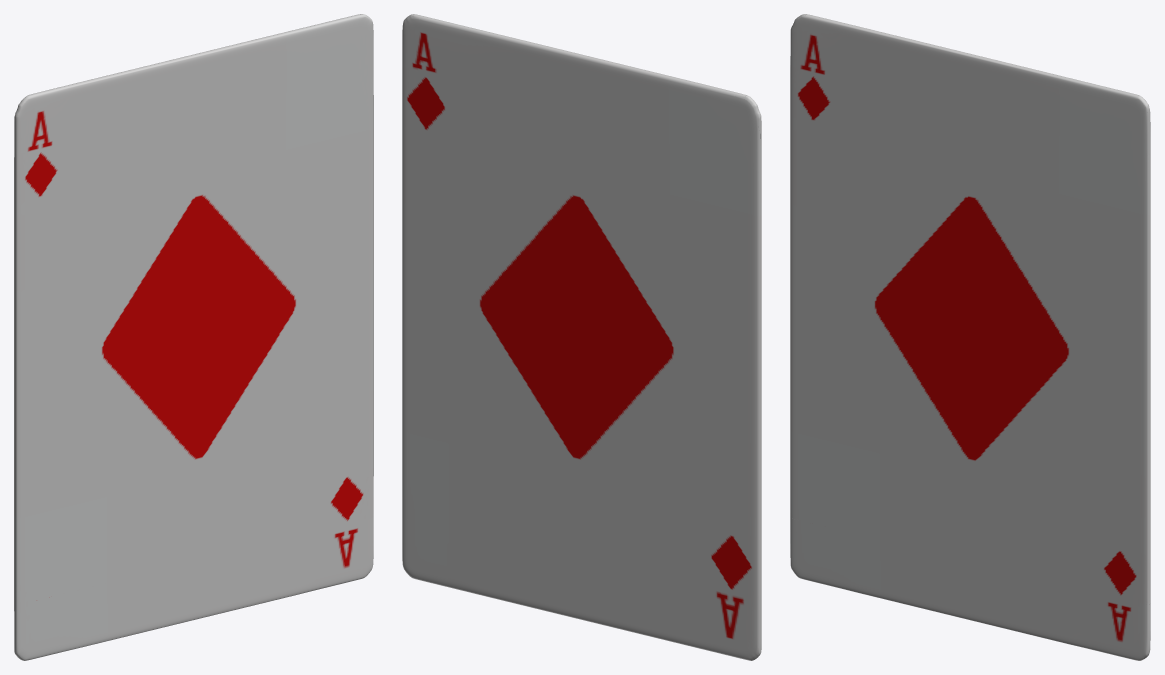
3 renders of one model, left to right at view 1: azimuth 30°, elevation 25°; view 2: azimuth 150°, elevation 25°; view 3: azimuth 330°, elevation 25°, orthographic.
Visible parts, largest first — view 1: Geode; view 2: Geode; view 3: Geode.
Part boxes in pixels (<box>): Geode: <box>14,14,373,660</box>; Geode: <box>402,14,761,660</box>; Geode: <box>790,14,1150,660</box>.
Size of the model in its own units: 93.94 by 141 by 1.71.
